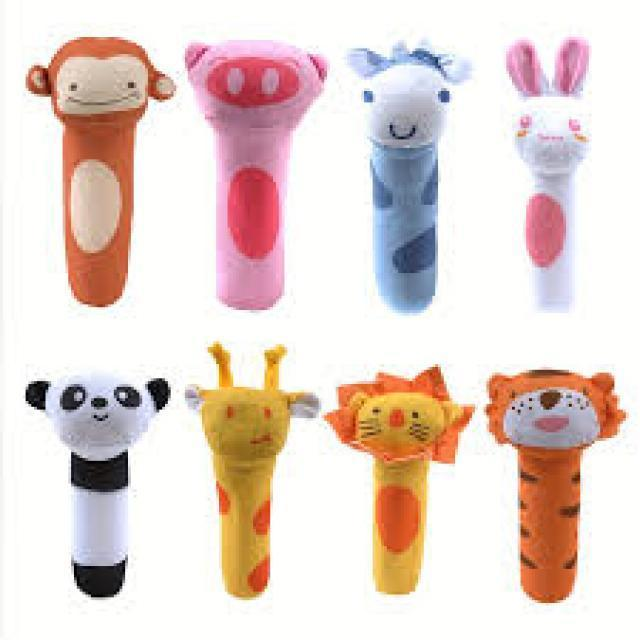soft-toy: (27, 39, 176, 307), (186, 44, 329, 310), (187, 345, 319, 599), (327, 369, 474, 594), (27, 375, 171, 599), (350, 46, 469, 314), (490, 371, 626, 603), (360, 51, 450, 313), (507, 37, 591, 310)
